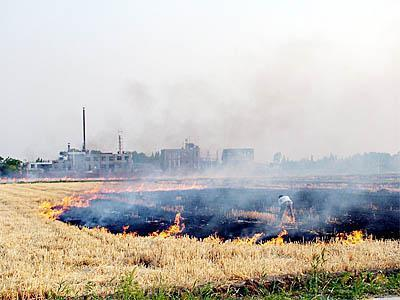fire: (43, 186, 208, 219), (143, 211, 196, 244), (243, 223, 293, 246), (340, 224, 378, 247)
